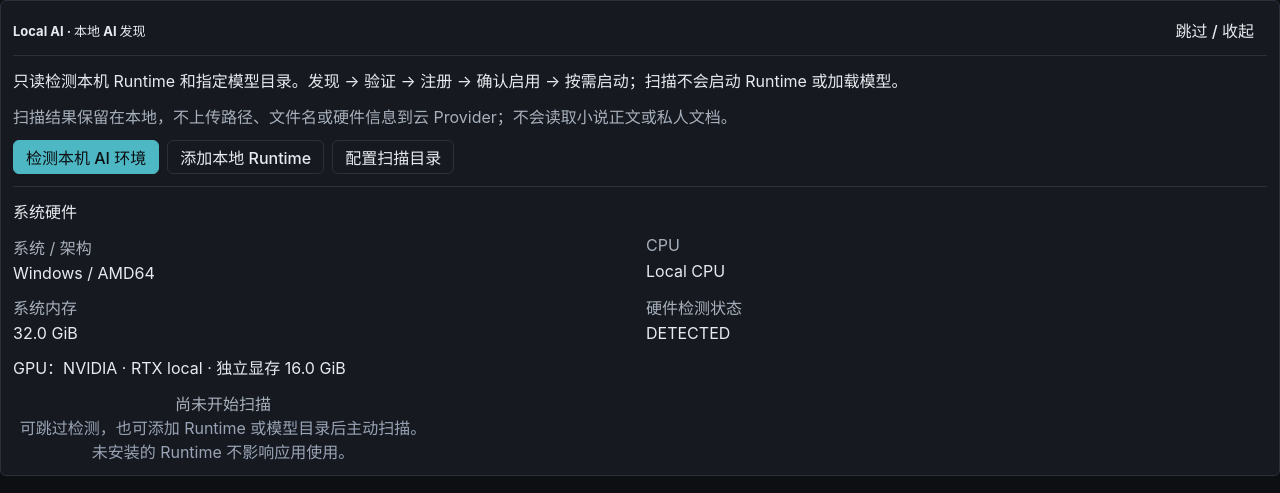
Scenario: Local AI Discovery › does not scan on mount and supports skipping without mutations
Click the button "跳过 / 收起" at (1215, 30), box [1162,13,1267,47]
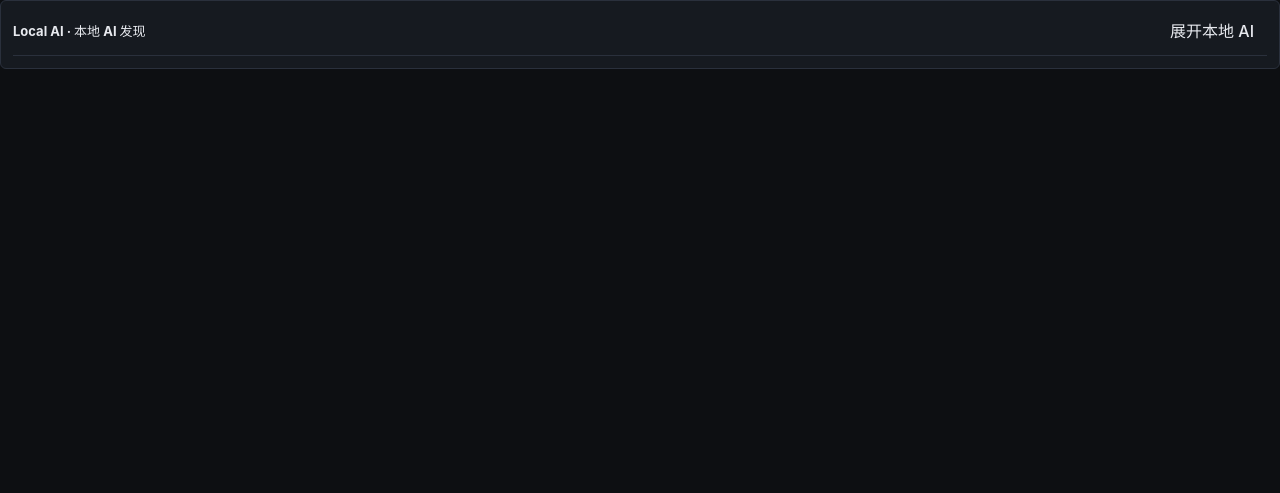
Expected: the button "展开本地 AI" is shown, [1157,13,1267,47]
Expected: the text "尚未开始扫描" is gone
